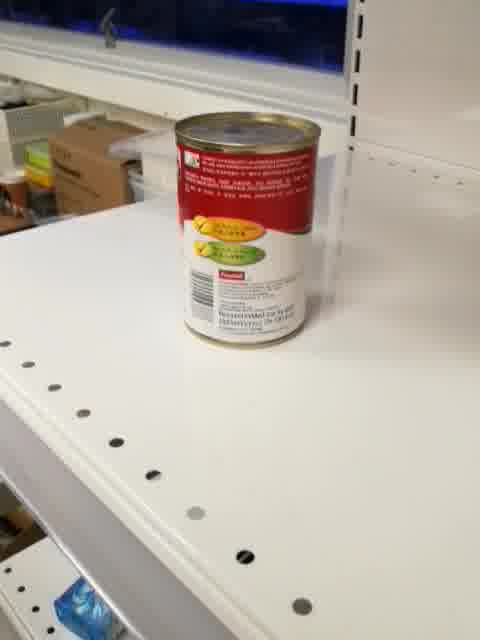tomatosoup: (171, 106, 322, 352)
